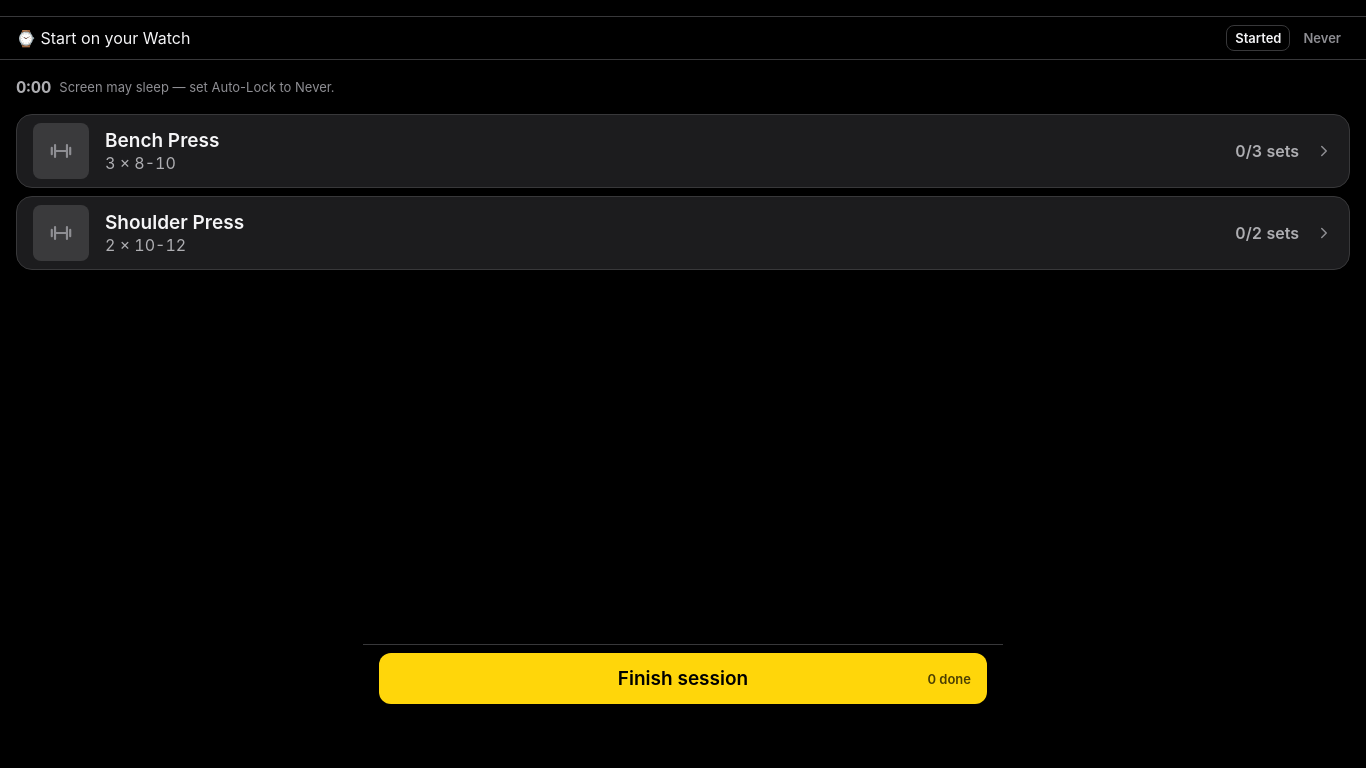
Test: SessionRunner — the exercise index › tapping a row opens that exercise, and back returns to the index
Expected: the text "Bench Press" is shown, [105,129,219,152]
What coordinates should you click on to do the following:
click the button with class "exindex-row" showing "Bench Press 3 × 8-10 0/3 sets"
I would click on:
 (61, 151)
Its box is [16,114,1350,188].
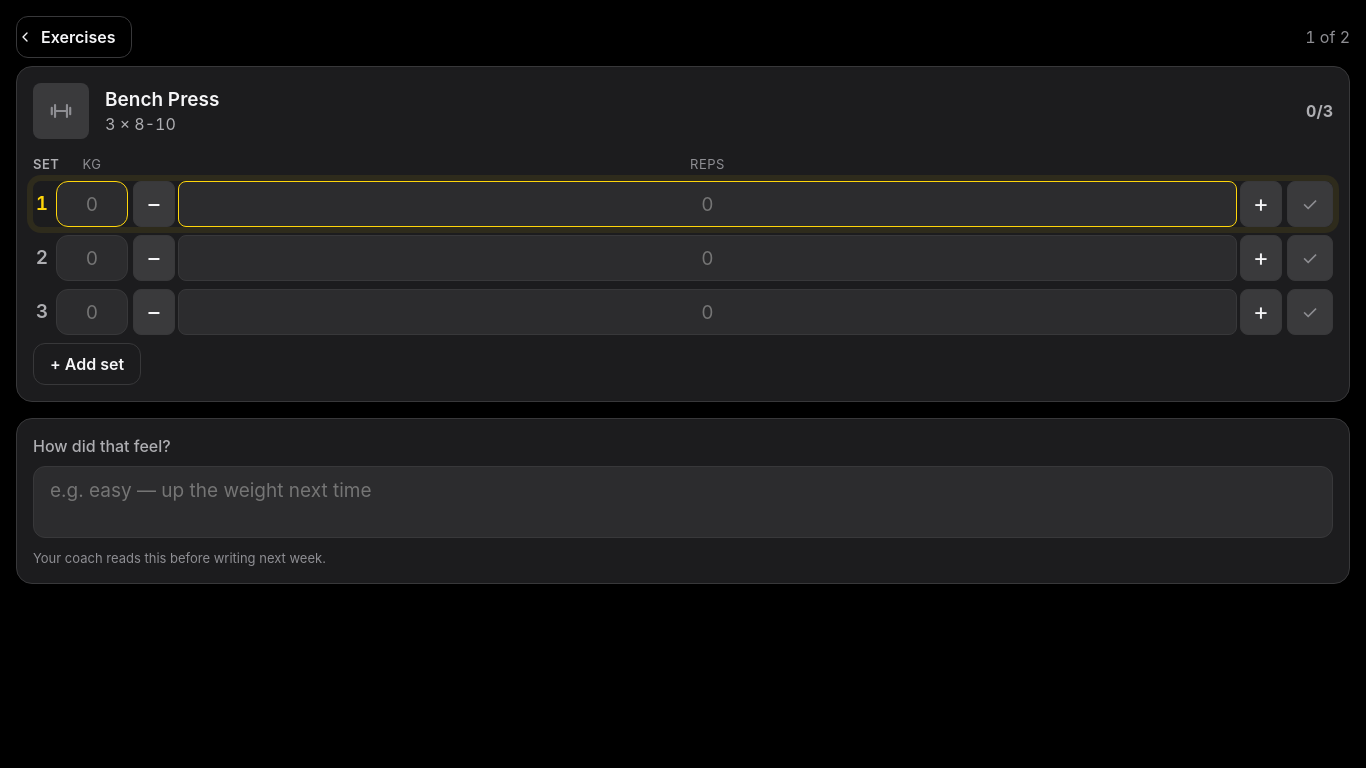
Expected: the number field named "Set 1 weight" is shown, [56,181,128,227]
Expected: the text "1 of 2" is shown, [1305,26,1350,48]
Expected: the button "Finish session" is gone
What coordinates should you click on to do the following:
click the button with aria-label "Back to exercises"
I would click on:
 (74, 37)
Its box is [16,16,132,58].
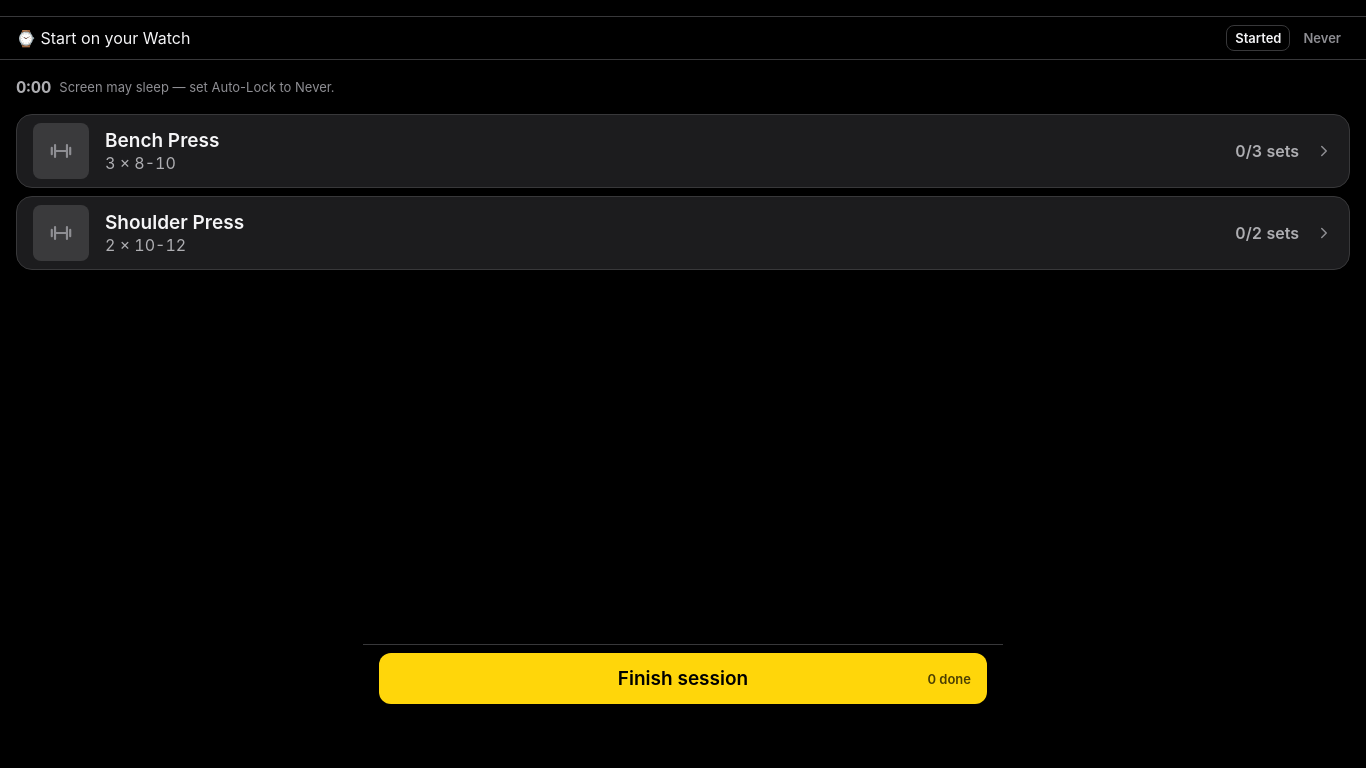
Expected: the button "Finish session 0 done" is shown, [379,653,987,704]
